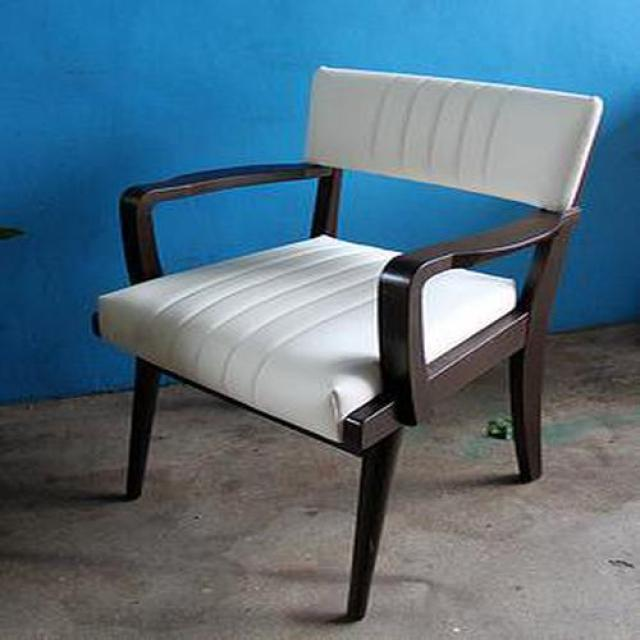chair: (91, 68, 604, 625)
